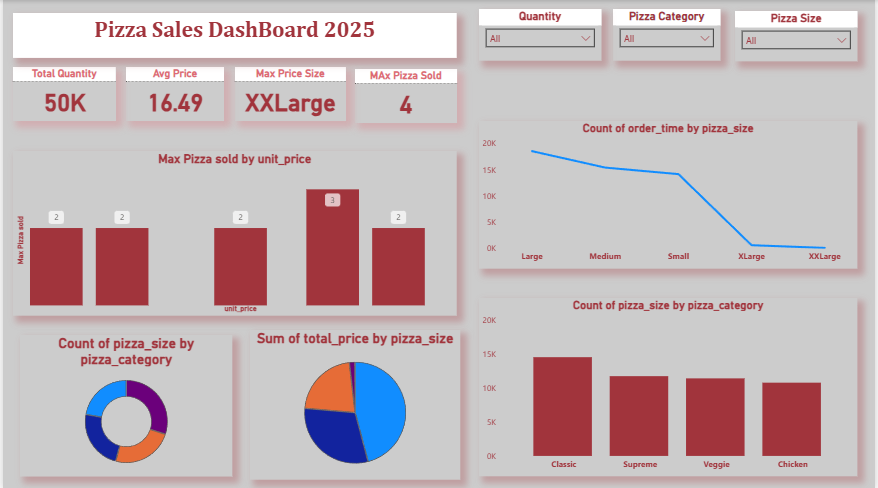

What the dashboard file says about the page in this screenshot:
{"tool":"powerbi","page":{"name":"Page 1","canvas":[1280,720],"ordinal":0},"visuals":[{"type":"card","title":"Total Quantity","fields":{"Values":["pizza project.Total quantity"]},"box":[15.1,99.1,151.2,79],"z":0},{"type":"card","title":"Avg Price","fields":{"Values":["pizza project.Avg price"]},"box":[181.4,99.1,144.5,79],"z":1000},{"type":"card","title":"Max Price Size","fields":{"Values":["pizza project.Max pizza size"]},"box":[341,99.1,162.9,79],"z":2000},{"type":"card","title":"MAx Pizza Sold","fields":{"Values":["pizza project.Max Pizza sold"]},"box":[517.4,100.8,149.5,79],"z":3000},{"type":"textbox","box":[15.1,18.5,651.8,65.5],"z":3001},{"type":"lineStackedColumnComboChart","fields":{"Y":["pizza project.Max Pizza sold"],"Category":["pizza project.unit_price"]},"box":[15.1,221.7,651.8,241.9],"z":3002},{"type":"donutChart","fields":{"Category":["pizza project.pizza_category"],"Y":["CountNonNull(pizza project.pizza_size)"]},"box":[25.2,492.2,312.4,208.3],"z":3003},{"type":"pieChart","fields":{"Y":["Sum(pizza project.total_price)"],"Category":["pizza project.pizza_size"]},"box":[362.8,485.5,309.1,220.1],"z":3004},{"type":"slicer","title":"Pizza Size","fields":{"Values":["pizza project.pizza_size"]},"box":[1075.1,16.8,179.7,73.9],"z":3005},{"type":"slicer","title":"Pizza Category","fields":{"Values":["pizza project.pizza_category"]},"box":[897,13.4,157.9,75.6],"z":3006},{"type":"lineClusteredColumnComboChart","fields":{"Category":["pizza project.pizza_category"],"Y":["CountNonNull(pizza project.pizza_size)"]},"box":[698.8,438.4,556,262],"z":3007},{"type":"slicer","title":"Quantity","fields":{"Values":["pizza project.quantity"]},"box":[698.8,13.4,179.7,75.6],"z":3008},{"type":"lineChart","fields":{"Y":["CountNonNull(pizza project.order_time)"],"Category":["pizza project.pizza_size"]},"box":[698.8,178.1,556,216.7],"z":3009}]}

Visuals, with their boxes in screenshot pixels (x1, y1, x2, y2), scaled from the page's 1280x720 canvas onto the 878x488 screenshot:
"Total Quantity" card: BBox(10, 67, 114, 121)
"Avg Price" card: BBox(124, 67, 224, 121)
"Max Price Size" card: BBox(234, 67, 346, 121)
"MAx Pizza Sold" card: BBox(355, 68, 457, 122)
textbox: BBox(10, 13, 457, 57)
lineStackedColumnComboChart - pizza project.Max Pizza sold x pizza project.unit_price: BBox(10, 150, 457, 314)
donutChart - pizza project.pizza_category x CountNonNull(pizza project.pizza_size): BBox(17, 334, 232, 475)
pieChart - Sum(pizza project.total_price) x pizza project.pizza_size: BBox(249, 329, 461, 478)
"Pizza Size" slicer: BBox(737, 11, 861, 61)
"Pizza Category" slicer: BBox(615, 9, 724, 60)
lineClusteredColumnComboChart - pizza project.pizza_category x CountNonNull(pizza project.pizza_size): BBox(479, 297, 861, 475)
"Quantity" slicer: BBox(479, 9, 603, 60)
lineChart - CountNonNull(pizza project.order_time) x pizza project.pizza_size: BBox(479, 121, 861, 268)
